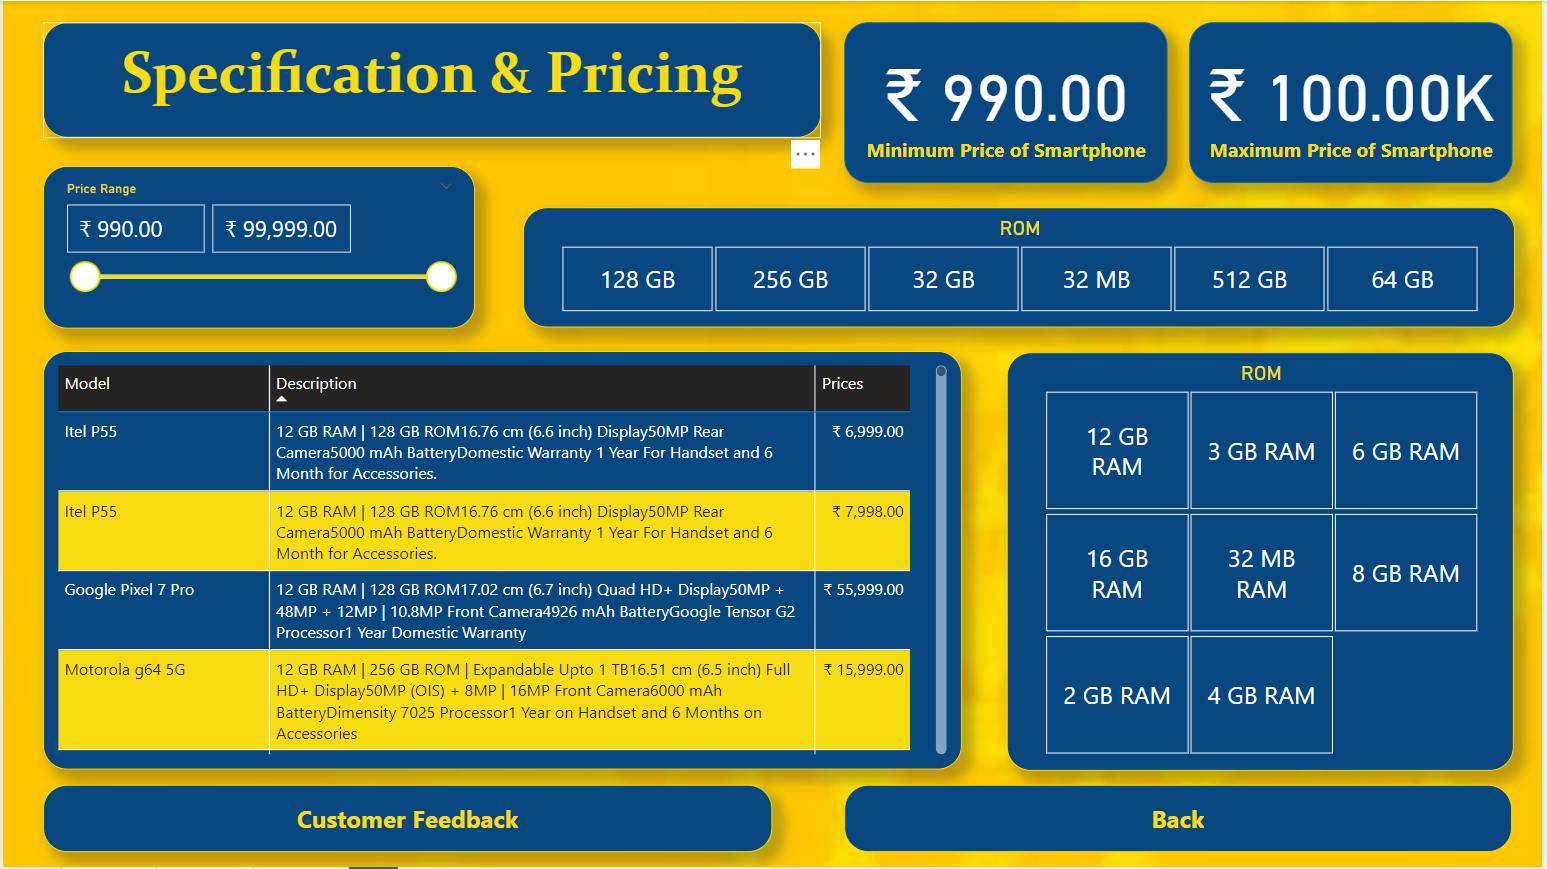

This screenshot's page, from the dashboard's own definition file:
{"tool":"powerbi","page":{"name":"Page 2","canvas":[1280,720],"ordinal":1},"visuals":[{"type":"textbox","box":[33.4,18.1,647,96],"z":0},{"type":"slicer","fields":{"Values":["Flipkart_data_phones.Prices"]},"box":[33.5,136.7,359.3,135.3],"z":1000},{"type":"slicer","title":"ROM","fields":{"Values":["Flipkart_data_phones.ROM"]},"box":[432,171.6,824.7,100.4],"z":2000},{"type":"tableEx","fields":{"Values":["Flipkart_data_phones.Model","Flipkart_data_phones.Description","Flipkart_data_phones.Prices"]},"box":[33.5,290.9,763.6,347.6],"z":3000},{"type":"slicer","title":"ROM","fields":{"Values":["Flipkart_data_phones.RAM"]},"box":[834.9,292.4,421.8,347.6],"z":4000},{"type":"card","fields":{"Values":["Max(Flipkart_data_phones.Prices)"]},"box":[986.2,17.5,269.1,133.8],"z":5000},{"type":"card","fields":{"Values":["Min(Flipkart_data_phones.Prices)"]},"box":[699.6,17.5,269.1,133.8],"z":6000},{"type":"actionButton","title":"Customer Feedback","box":[33.4,651.1,606.6,55.7],"z":8000},{"type":"actionButton","box":[699.8,651.1,555.1,55.7],"z":9000}]}

Visuals, with their boxes in screenshot pixels (x1, y1, x2, y2), scaled from the page's 1280x720 canvas onto the 1547x869 screenshot:
textbox: (40, 22, 822, 138)
slicer - Flipkart_data_phones.Prices: (40, 165, 475, 328)
"ROM" slicer: (522, 207, 1519, 328)
tableEx - Flipkart_data_phones.Model x Flipkart_data_phones.Description: (40, 351, 963, 771)
"ROM" slicer: (1009, 353, 1519, 772)
card - Max(Flipkart_data_phones.Prices): (1192, 21, 1517, 183)
card - Min(Flipkart_data_phones.Prices): (846, 21, 1171, 183)
"Customer Feedback" actionButton: (40, 786, 774, 853)
actionButton: (846, 786, 1517, 853)
